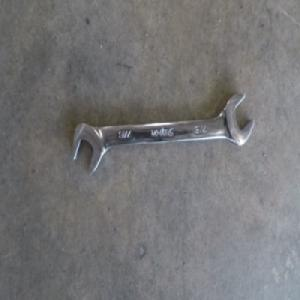Wrench: (73, 90, 254, 176)
